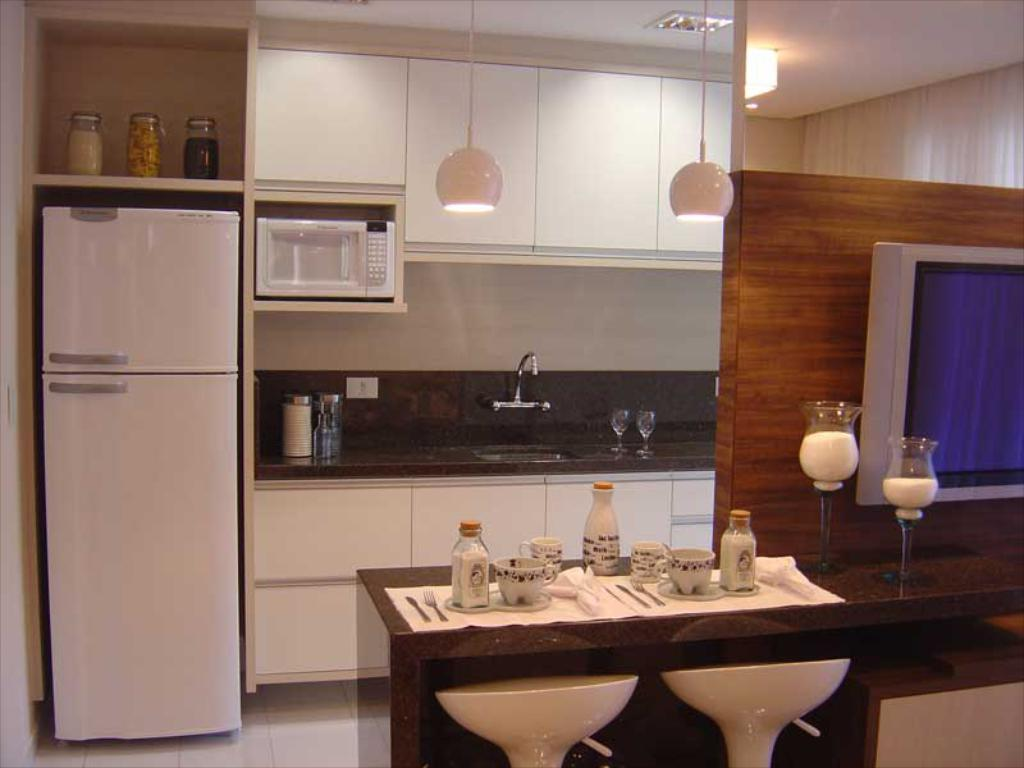cabinet_door: (408, 63, 535, 240), (258, 54, 408, 188), (540, 68, 657, 239), (252, 486, 414, 582), (654, 80, 730, 243), (254, 587, 398, 656), (546, 476, 670, 550), (417, 486, 543, 558), (670, 472, 712, 514), (668, 513, 710, 549)
handle: (46, 349, 126, 367), (47, 381, 127, 399)
